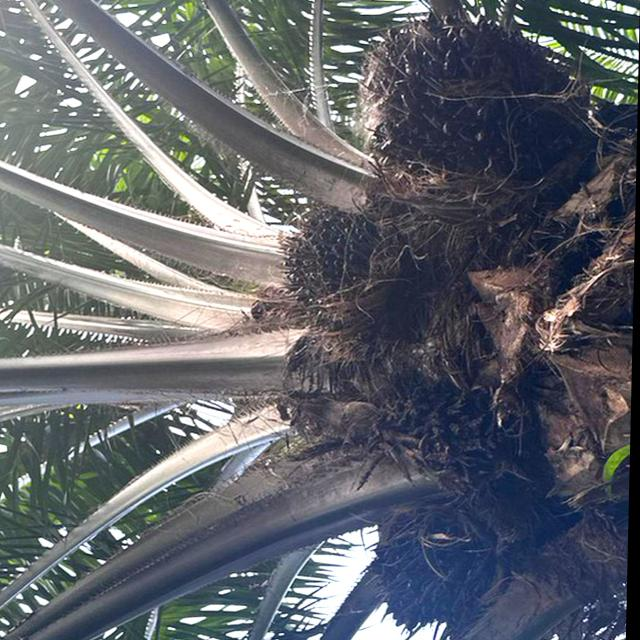unripe: (358, 11, 639, 185), (357, 510, 528, 640), (276, 203, 443, 319)
